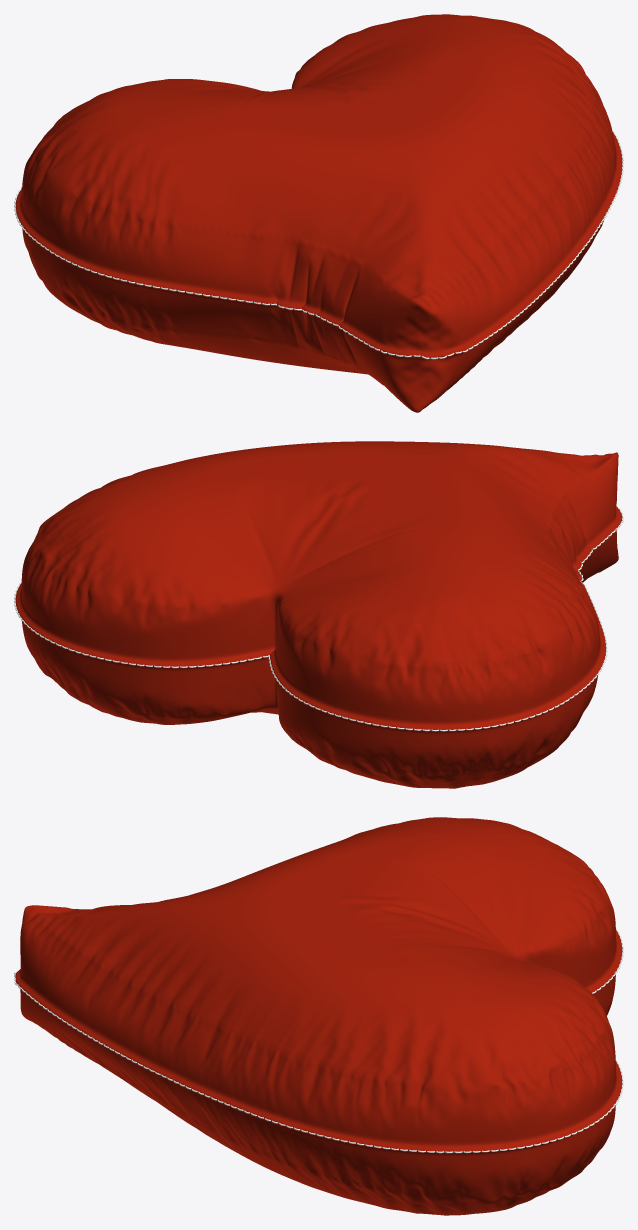
The model's file is efac111b-9422-4287-8554-9da59e81e7d9.glb.
The picture shows the model from 3 angles, top to bottom: view 1: azimuth 30°, elevation 25°; view 2: azimuth 150°, elevation 25°; view 3: azimuth 270°, elevation 25°; orthographic projection. The views are drawn at different scales.
Parts seen in each view (by area): view 1: Almofada, Costura; view 2: Almofada, Costura; view 3: Almofada, Costura.
Part boxes in pixels (x1,y1,x2,y2): Almofada: (15,14,622,412); Costura: (14,129,623,359); Almofada: (15,441,622,788); Costura: (14,505,623,731); Almofada: (15,817,622,1215); Costura: (14,928,623,1153).
Size of the model in its own units: 0.6213 by 0.2428 by 0.5853.
